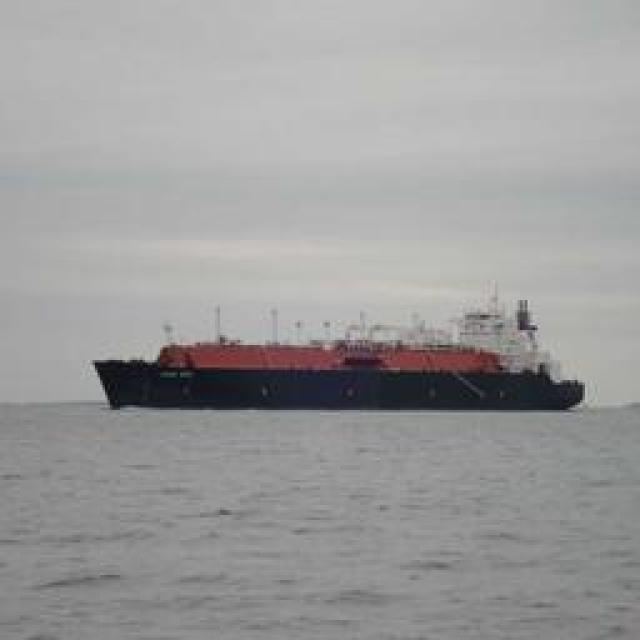Ship: (89, 330, 584, 413)
